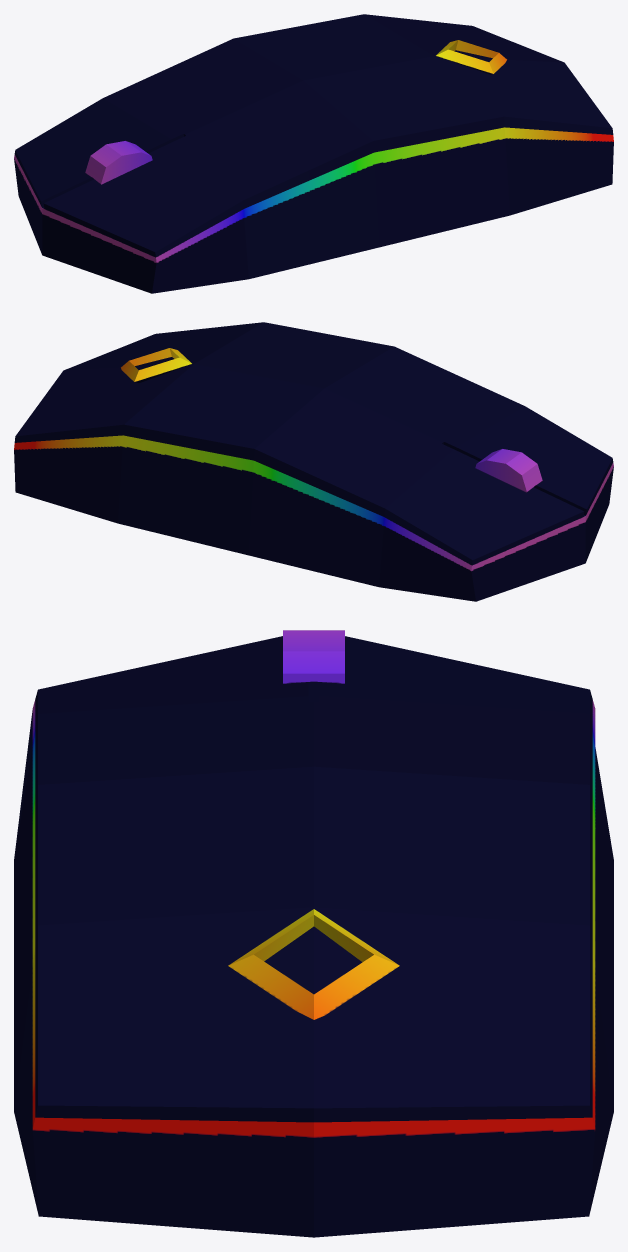
File: mouseRgb.fbx
3 views of the same model, one above another, from view 1: azimuth 30°, elevation 25°; view 2: azimuth 150°, elevation 25°; view 3: azimuth 270°, elevation 25° (orthographic). The views are drawn at different scales.
Parts seen in each view (by area): view 1: Mouse; view 2: Mouse; view 3: Mouse.
Part boxes in pixels (<box>): Mouse: <box>14,14,613,293</box>; Mouse: <box>14,322,613,601</box>; Mouse: <box>14,630,613,1237</box>.
Size of the model in its own units: 2.3 by 1.16 by 0.4683.
